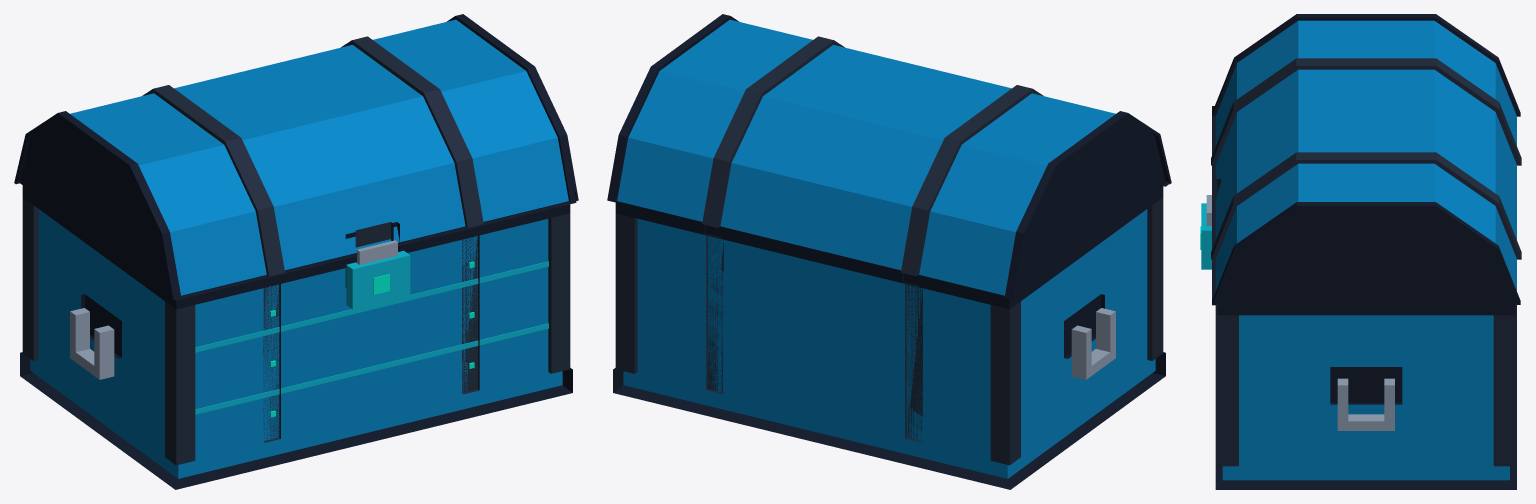
Rendered from chest_parts.fbx.
The picture shows the model from 3 angles, left to right: view 1: azimuth 30°, elevation 25°; view 2: azimuth 150°, elevation 25°; view 3: azimuth 270°, elevation 25°; orthographic projection. The views are drawn at different scales.
Parts seen in each view (by area): view 1: ChestParts; view 2: ChestParts; view 3: ChestParts.
Boxes of the visible parts, box(x1,y1,x2,y2) form: ChestParts: box(14, 14, 578, 489); ChestParts: box(607, 14, 1171, 489); ChestParts: box(1200, 14, 1521, 489).
Bounding box in the file's own units: 2.64 × 1.76 × 1.79.
Materials: 1 (1 with a texture image).
